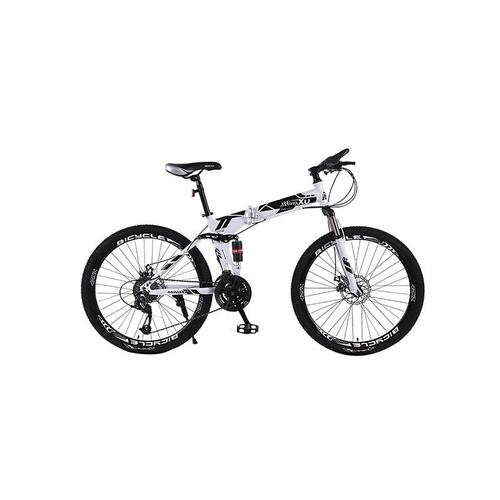单车: (74, 139, 435, 364)
